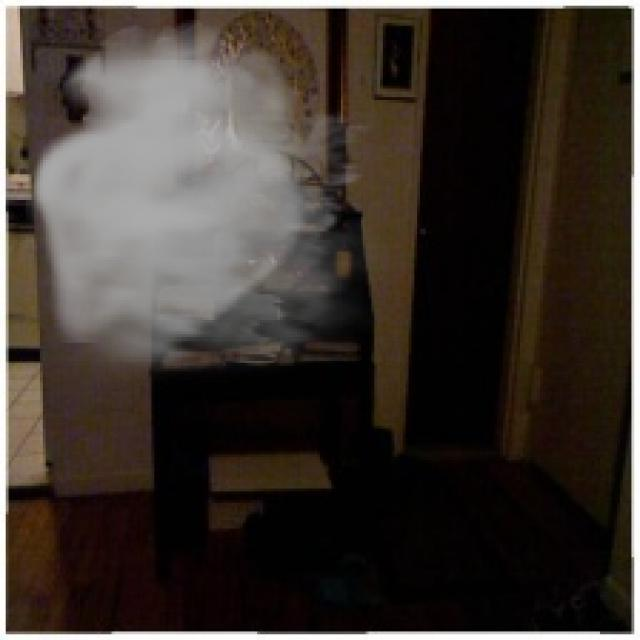Smoke: (26, 19, 406, 392)
